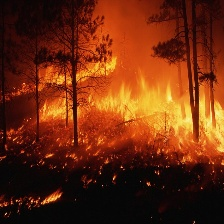fire: (8, 86, 224, 163), (4, 59, 121, 102), (81, 172, 214, 195), (1, 184, 66, 221)
